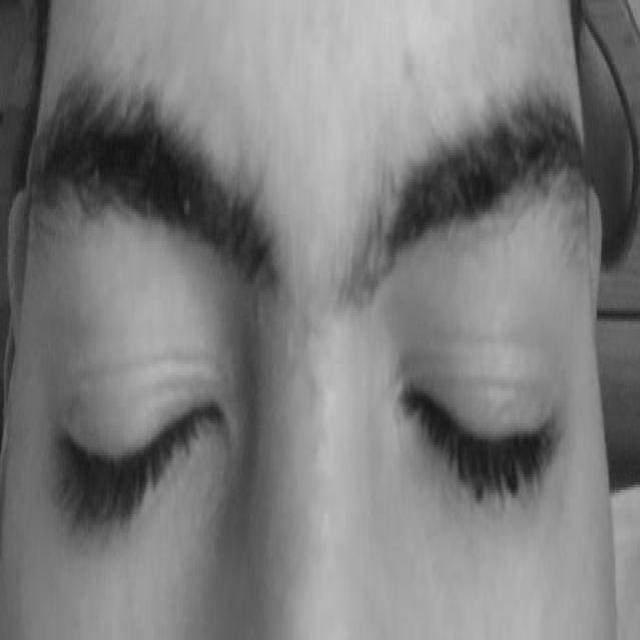real: (38, 159, 576, 583)
